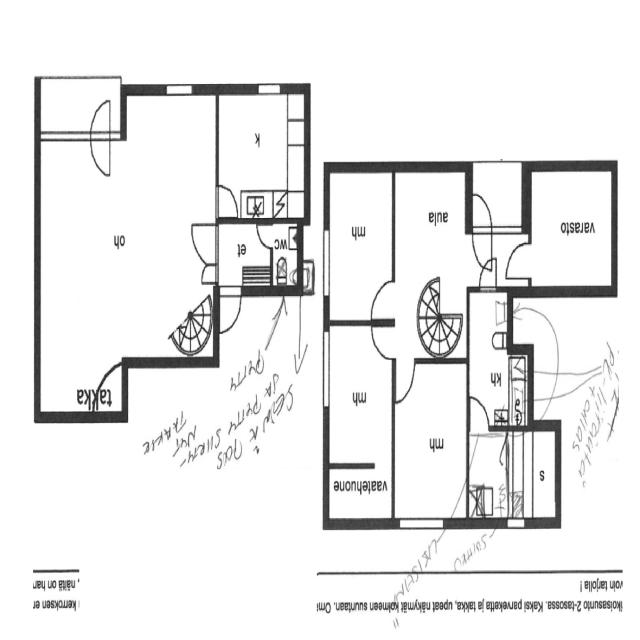door: (88, 96, 116, 182), (470, 197, 495, 281), (186, 212, 221, 272), (502, 237, 536, 286), (216, 281, 244, 336), (474, 230, 498, 294), (391, 356, 417, 408), (469, 188, 494, 238), (370, 273, 396, 321), (369, 322, 397, 362), (214, 179, 240, 222), (467, 394, 491, 438), (255, 219, 278, 251)
window: (318, 225, 335, 304), (42, 124, 92, 150), (320, 324, 334, 416), (396, 513, 448, 531), (162, 77, 198, 101), (253, 78, 284, 100), (505, 514, 527, 531)
zone: (39, 96, 223, 412), (394, 167, 470, 360), (326, 323, 394, 521), (215, 88, 308, 221), (392, 361, 468, 522), (527, 166, 615, 291), (325, 167, 395, 322), (467, 426, 559, 524), (468, 287, 516, 431), (216, 220, 275, 292), (269, 218, 301, 292)
